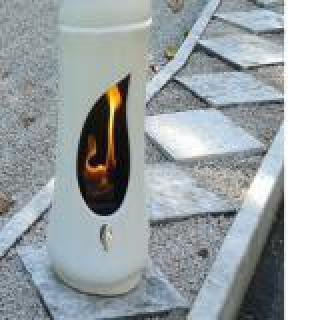fire: (80, 90, 130, 210)
